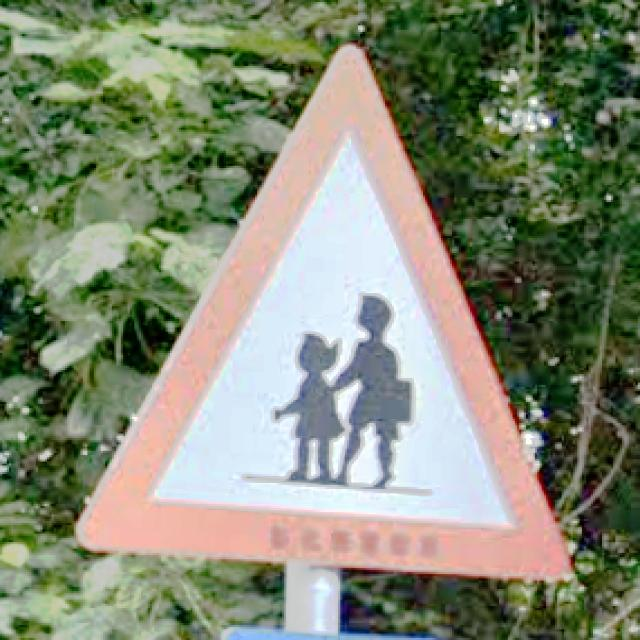childrencross: (80, 47, 567, 579)
